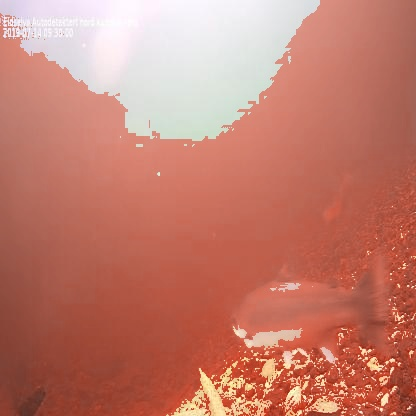salmon: (224, 247, 394, 374)
